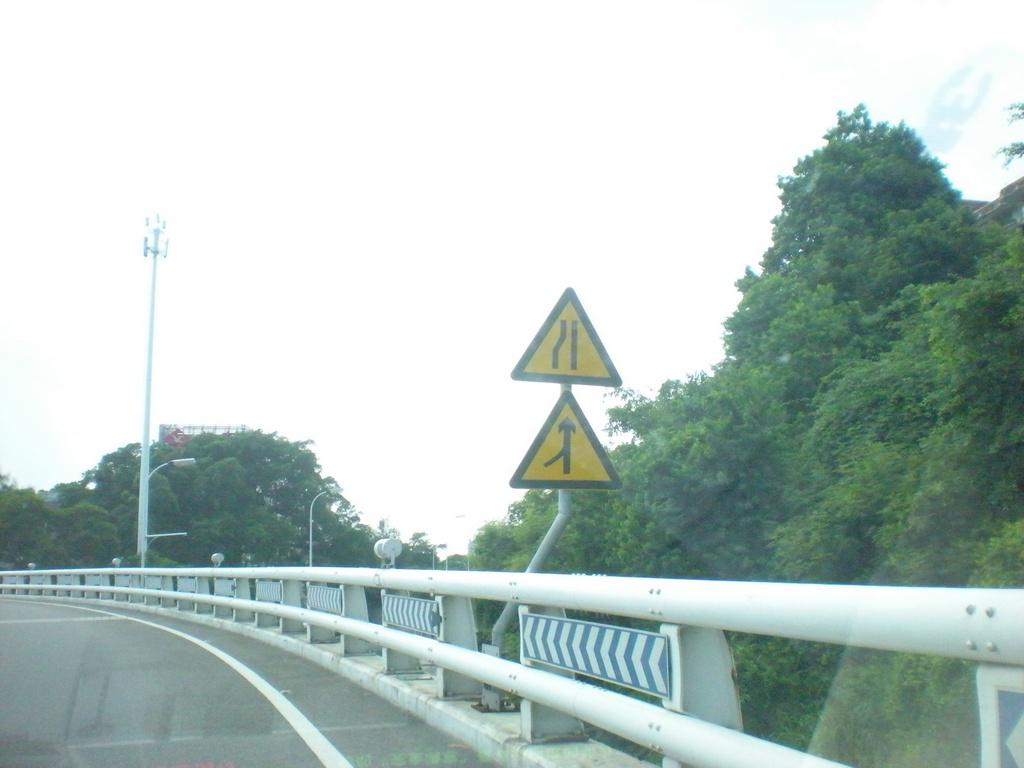Warning Signs: (508, 286, 623, 389), (508, 389, 625, 490)
